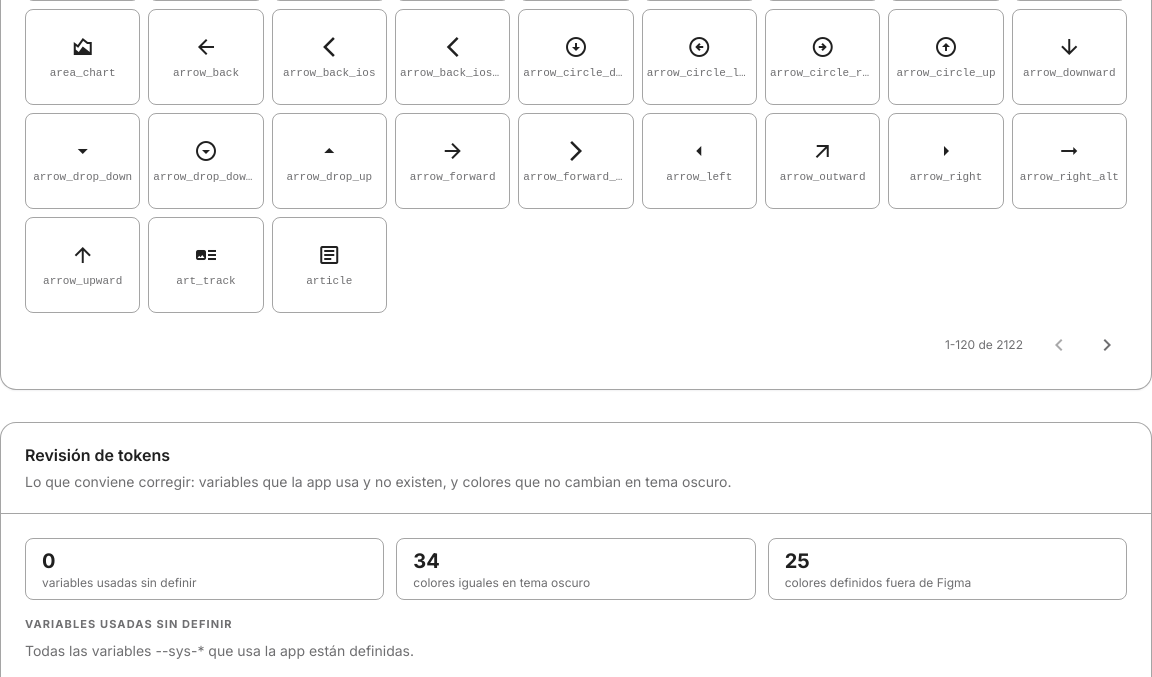
Test: UiKitFundamentosComponent › íconos: pagina de a 120 con siaf-pagination y la búsqueda vuelve a la primera página
(page scrolled)
Step 1. Click the button named "Página siguiente" → x=1107, y=345, box [1087,325,1127,365]
(page scrolled)
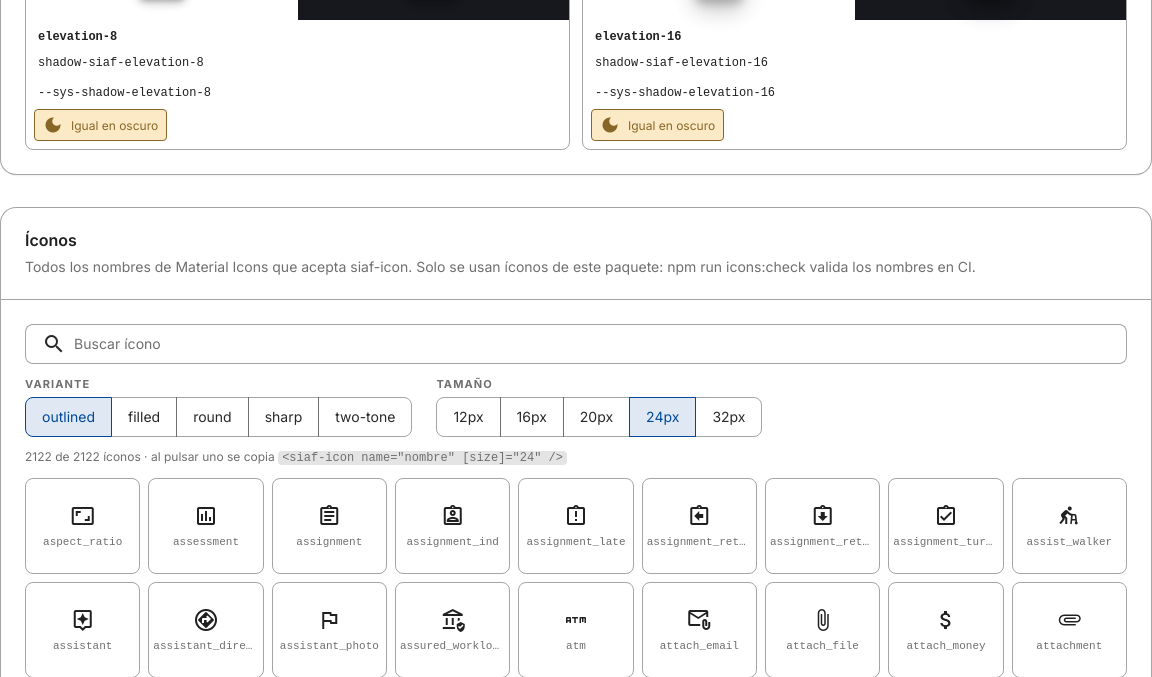
Step 2. Type "calendar" into the field with placeholder "Buscar ícono" → x=592, y=344, box [74,334,1110,354]
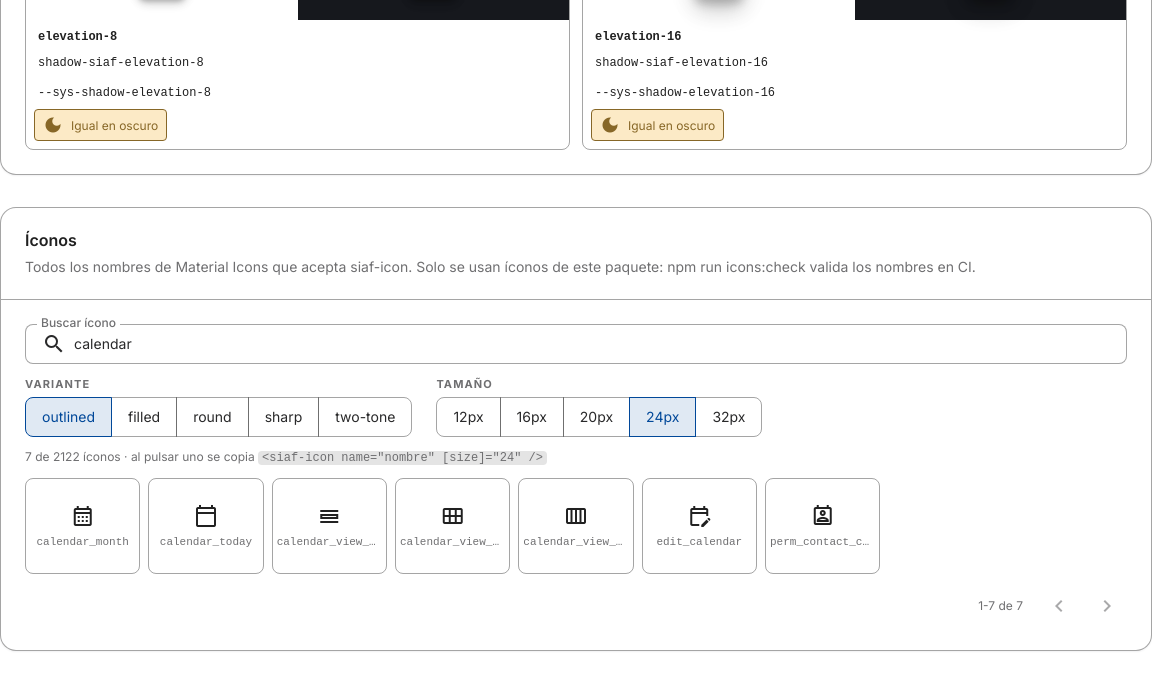
Now the button named "Página siguiente" is disabled, box [1087,586,1127,626]
